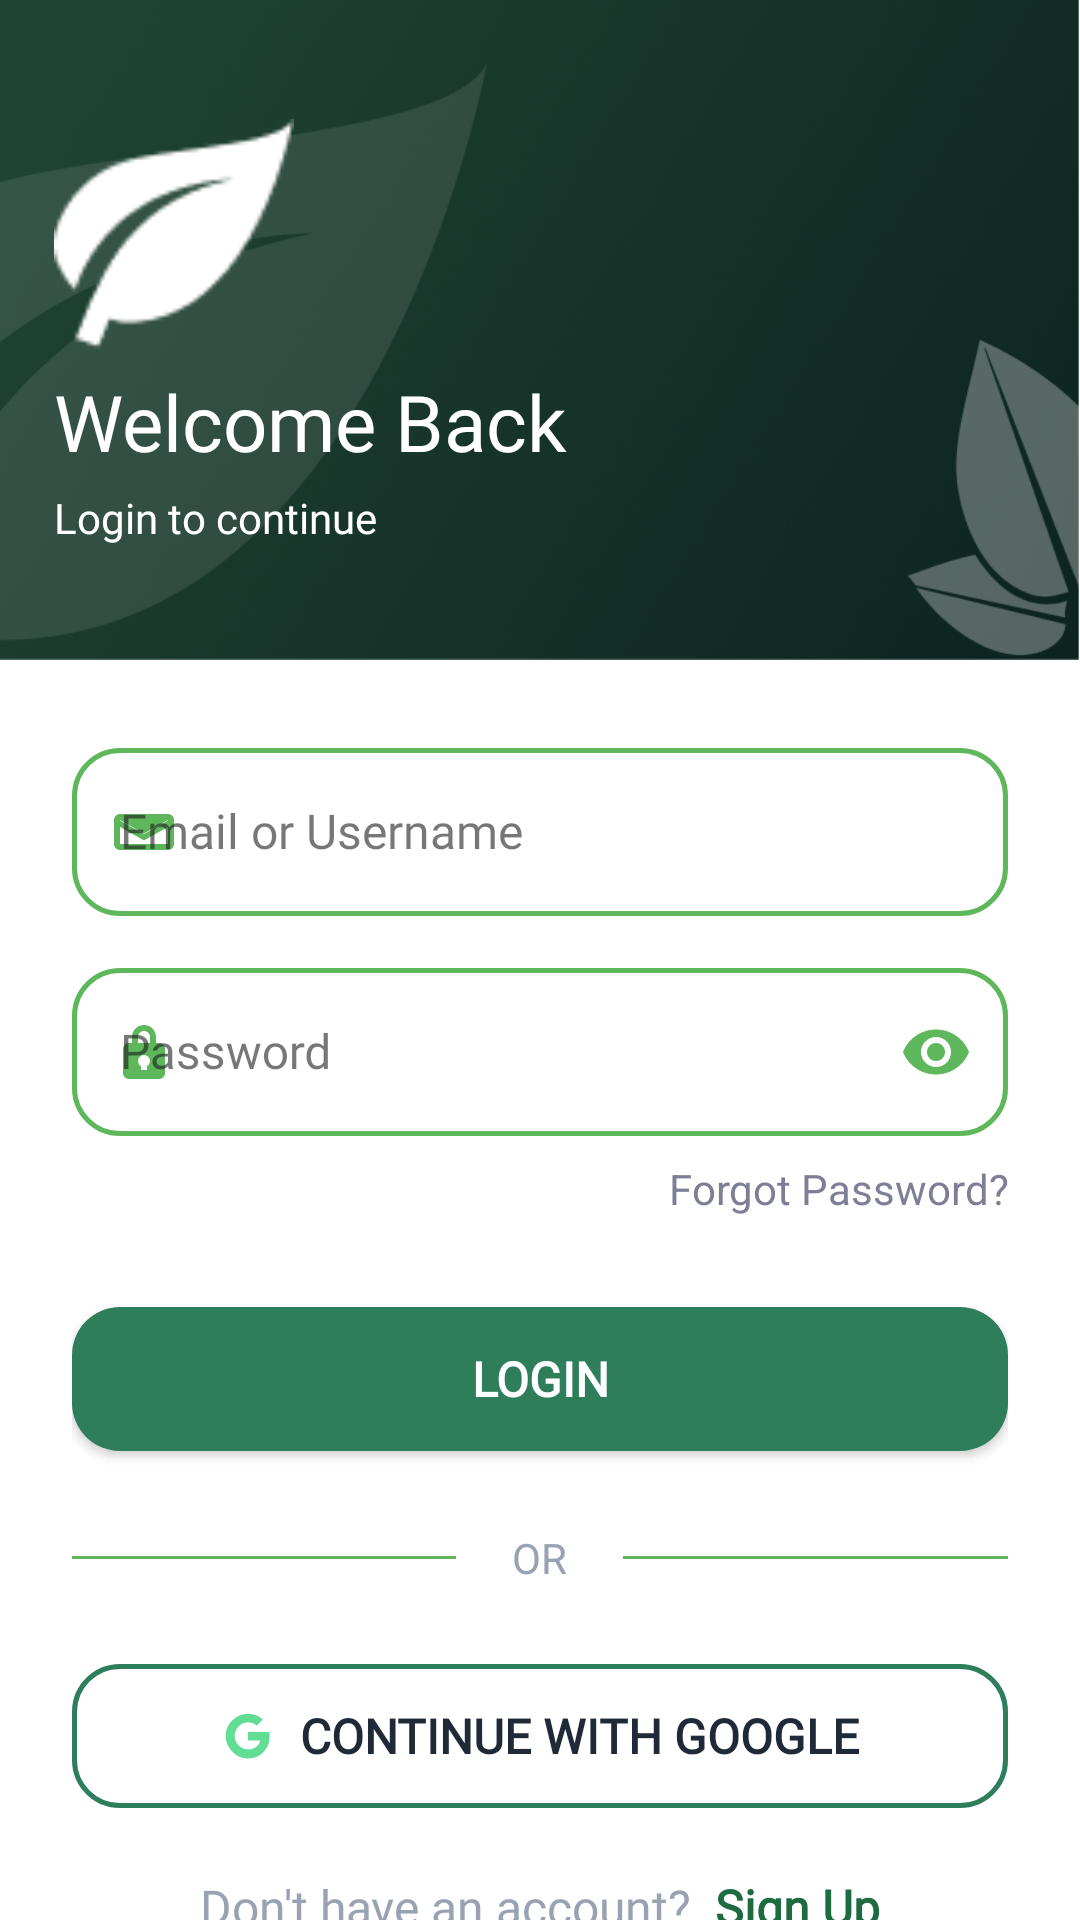

Icons on this 1080w x 1920h Android screen, each with the point to tap as (x=x, y=y):
leaf: (x=174, y=234)
